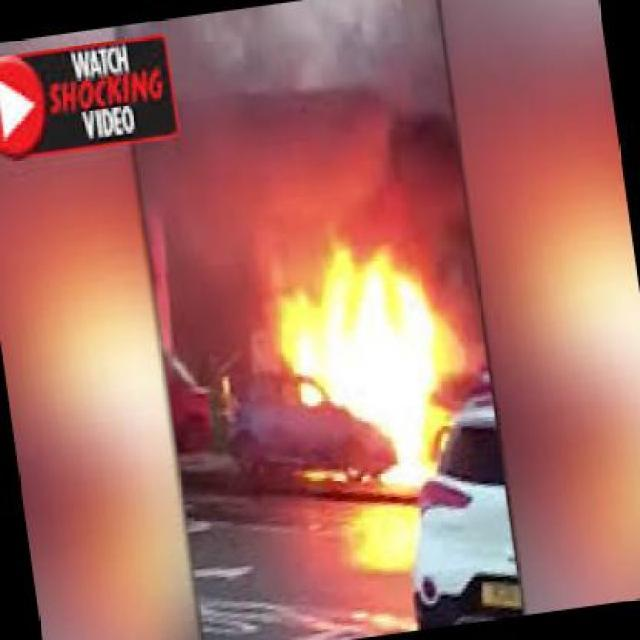Fire: (280, 233, 480, 492)
Smoke: (180, 25, 466, 225), (148, 136, 270, 378), (276, 2, 432, 85)
